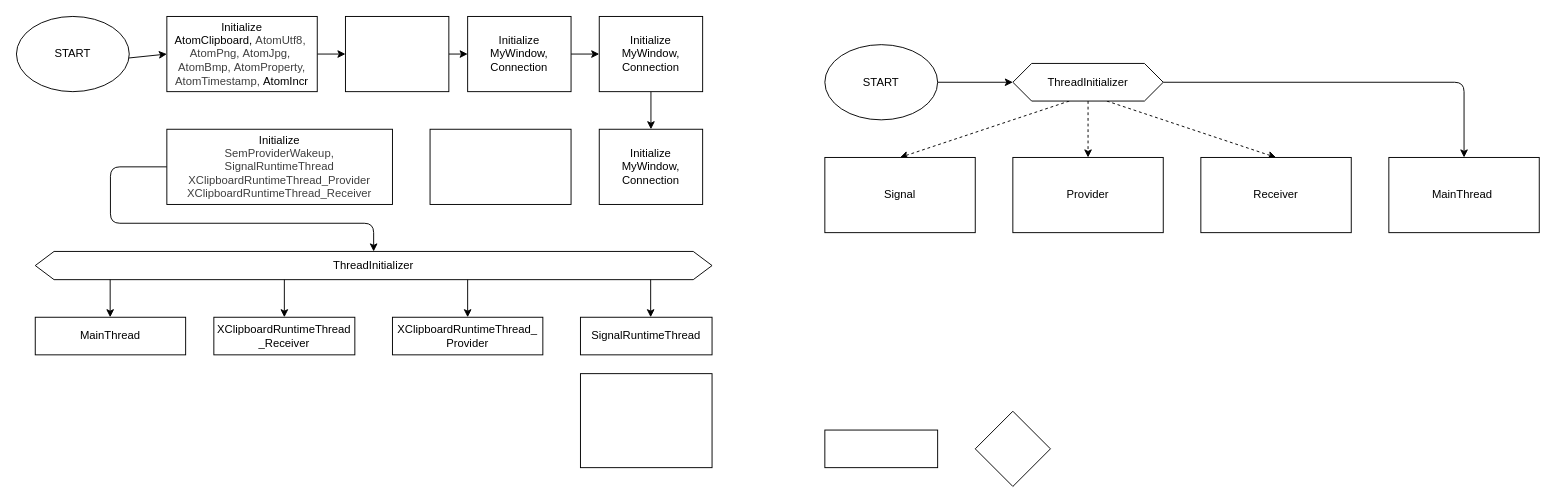
Some shapes in this 1556 by 503 pixel diagram are drawn without their labels. Here are the shapes that lost their labels. From the top down, the box of each, then its label:
(345, 16, 449, 92): Initialize ActiveData, ActiveDataLen, ActiveDataType
(429, 128, 571, 204): Initialize RequestExit, TogglePopUpStatus ReqTestInject ReqWaitForSetup
(580, 373, 712, 468): If (sig==SIGINT) RequestExit = Activate; if
(824, 429, 938, 468): ClipboardOwner <Changed>
